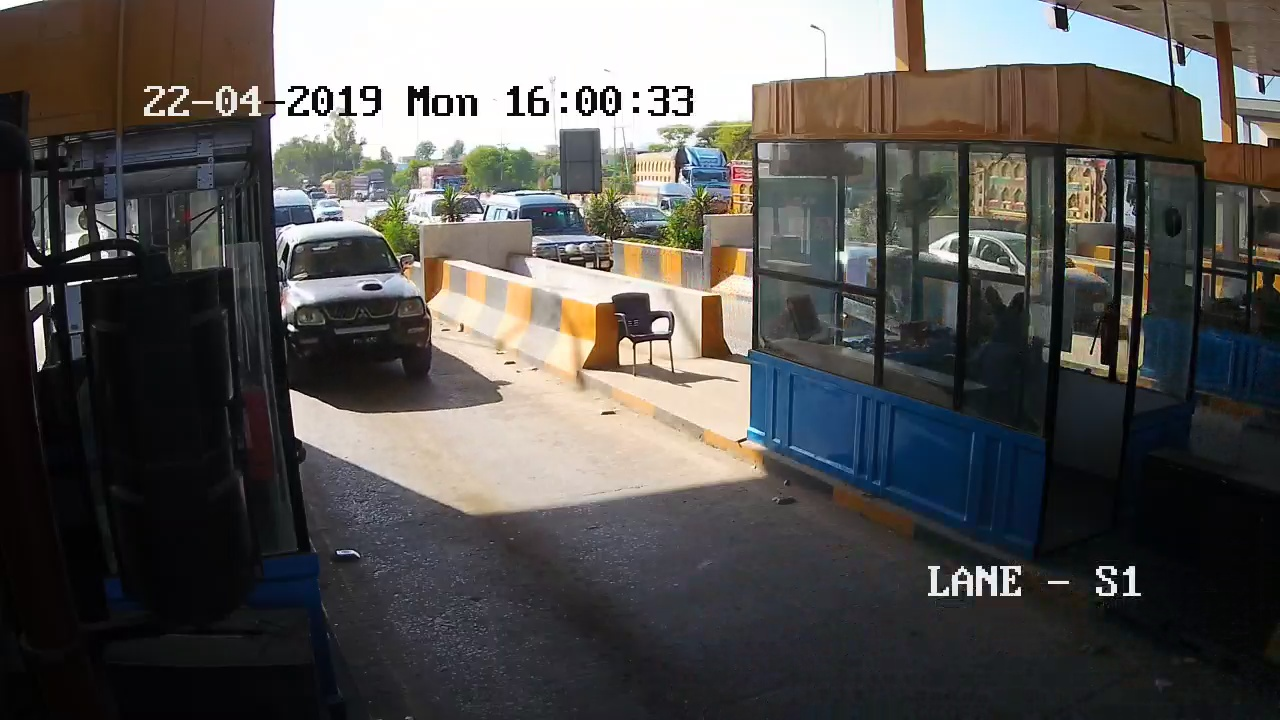car: (279, 233, 451, 398)
